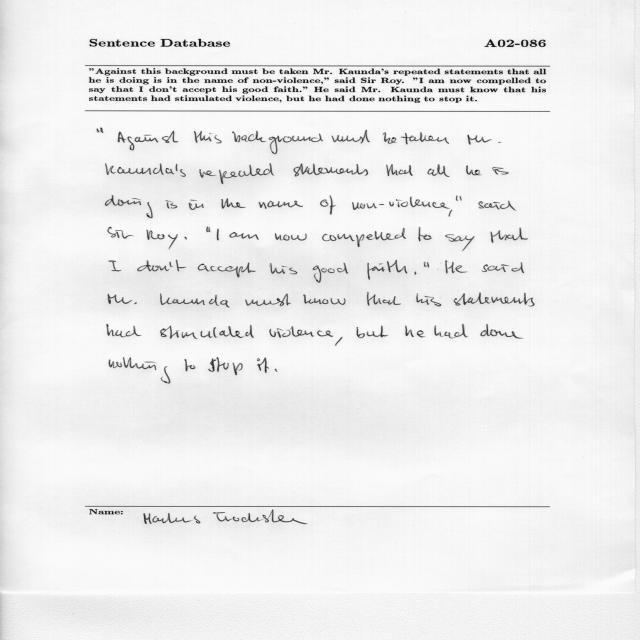word: (232, 131, 324, 154), (352, 197, 452, 217), (110, 357, 171, 384), (322, 228, 406, 247), (200, 163, 275, 184), (160, 325, 254, 339), (118, 131, 178, 150), (105, 163, 186, 177), (454, 293, 535, 307), (105, 196, 153, 219), (160, 293, 230, 308), (294, 164, 368, 177), (197, 263, 256, 278), (368, 260, 408, 280), (270, 326, 334, 338), (313, 263, 348, 283), (481, 324, 524, 339), (208, 358, 243, 376), (146, 230, 178, 249), (490, 227, 528, 243), (245, 294, 291, 307), (401, 132, 449, 144), (137, 260, 186, 271), (445, 234, 475, 251), (332, 130, 370, 143), (367, 292, 401, 306), (434, 324, 468, 338), (303, 294, 346, 305), (482, 262, 524, 273), (107, 324, 141, 337), (259, 200, 303, 209), (357, 326, 389, 338), (478, 201, 516, 211), (468, 135, 502, 145), (194, 131, 222, 143), (416, 294, 441, 307), (386, 164, 413, 176), (270, 263, 298, 274), (320, 196, 336, 215), (108, 227, 133, 239), (108, 294, 137, 304), (428, 164, 450, 177), (446, 261, 468, 274), (221, 198, 246, 209), (229, 232, 259, 240), (405, 326, 425, 338), (275, 233, 307, 240), (418, 227, 432, 241), (257, 357, 269, 373), (466, 165, 482, 176), (383, 132, 396, 144), (189, 200, 204, 210), (109, 261, 122, 272), (492, 167, 509, 175), (185, 359, 196, 371), (166, 200, 178, 209), (335, 337, 343, 346), (97, 128, 103, 133), (424, 262, 429, 268), (206, 227, 211, 232), (217, 229, 219, 240), (456, 195, 458, 201), (460, 196, 462, 201), (185, 236, 187, 240), (415, 271, 417, 275), (275, 368, 277, 372)
